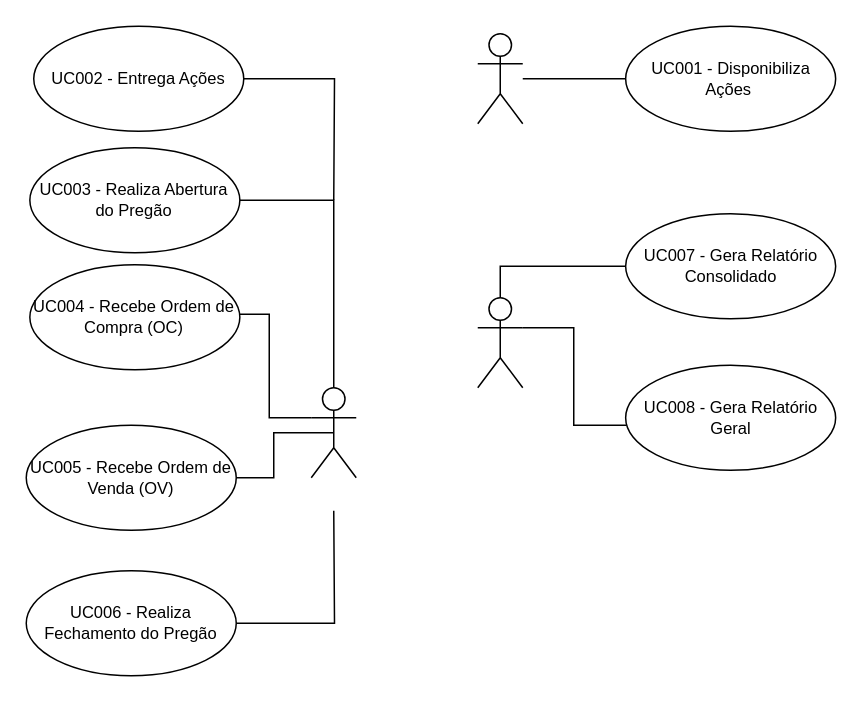
Image size: 863x702. Some labels were removed from this diagram. The shapes that lost their labels are listed below. From the top down, each one's box as (x1, y1, x2, y2) in pixels, then its label:
(476, 32, 523, 124): Empresa
(476, 296, 523, 388): Administrador
(310, 386, 356, 478): Market
